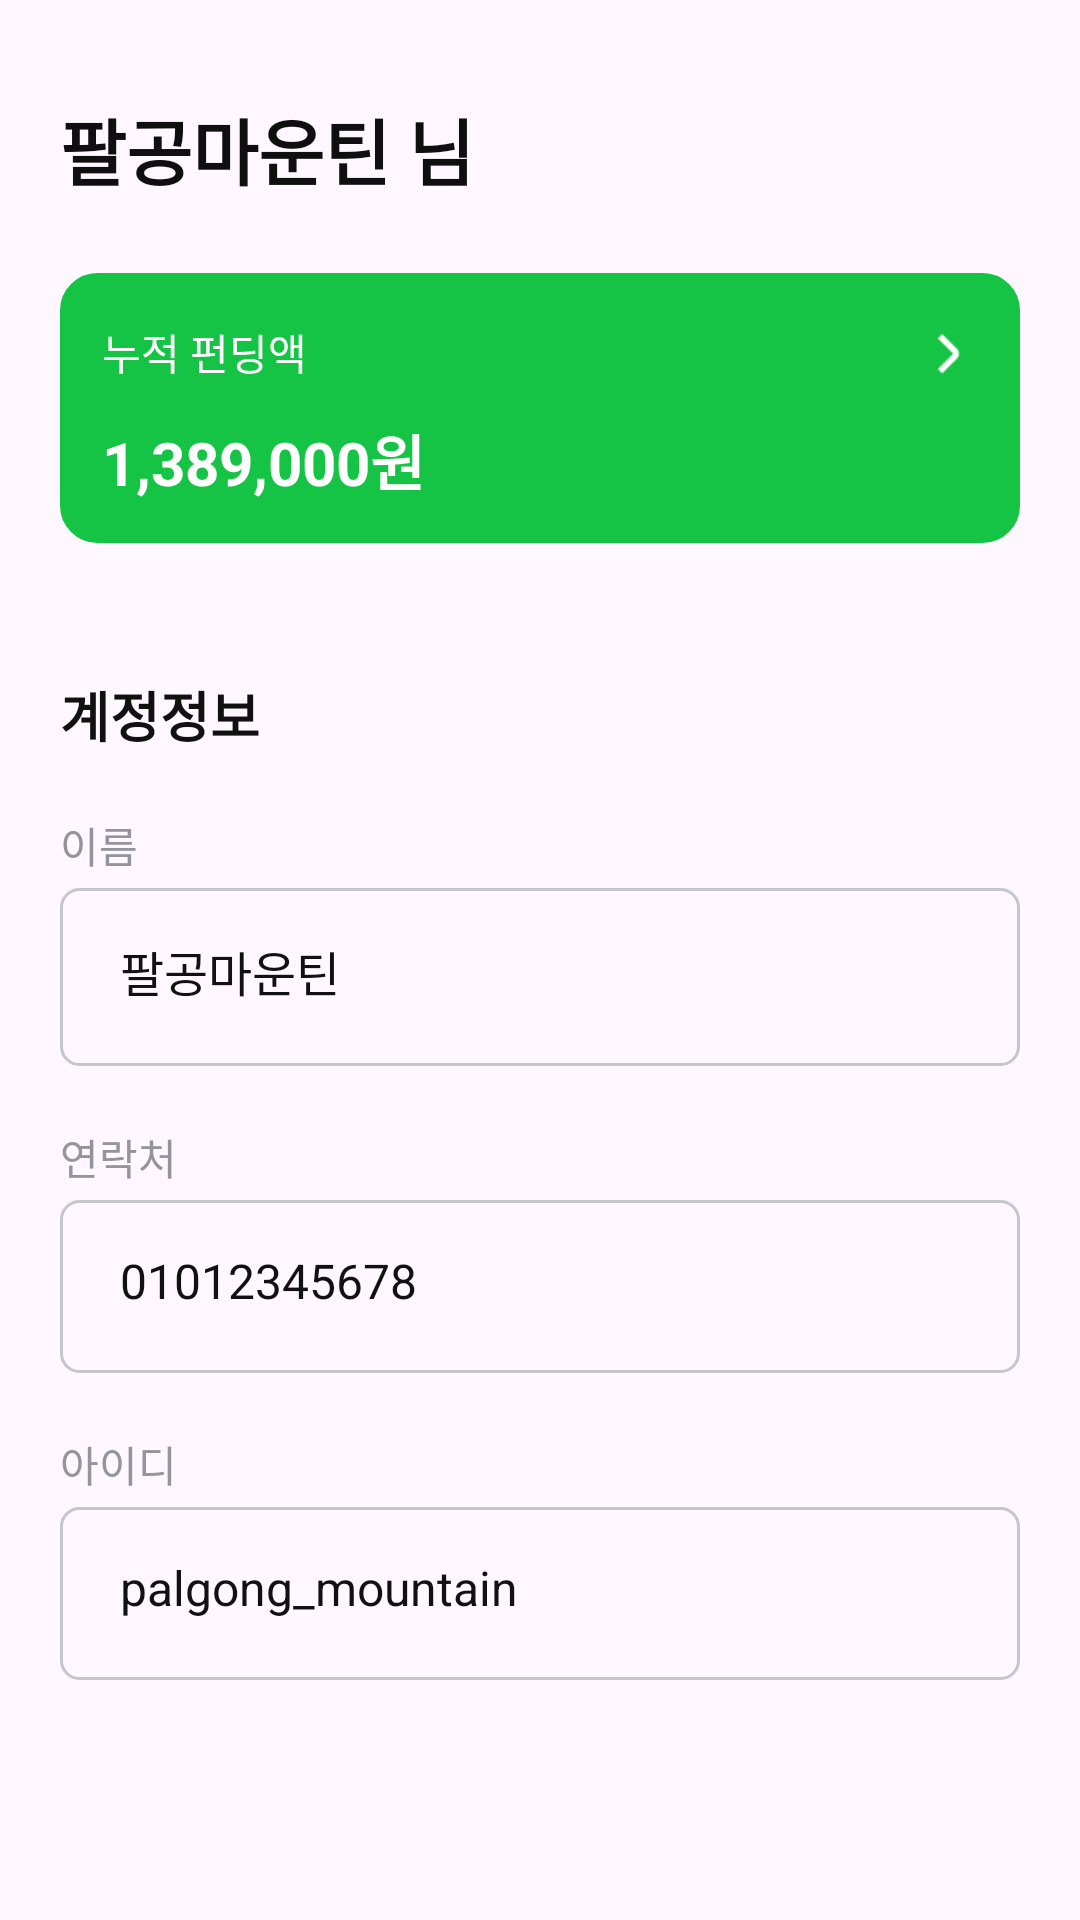

Where icons sit on this 1080px x 1920px app screen, as (x1, y1, x2, y2):
into: (937, 334, 960, 374)
